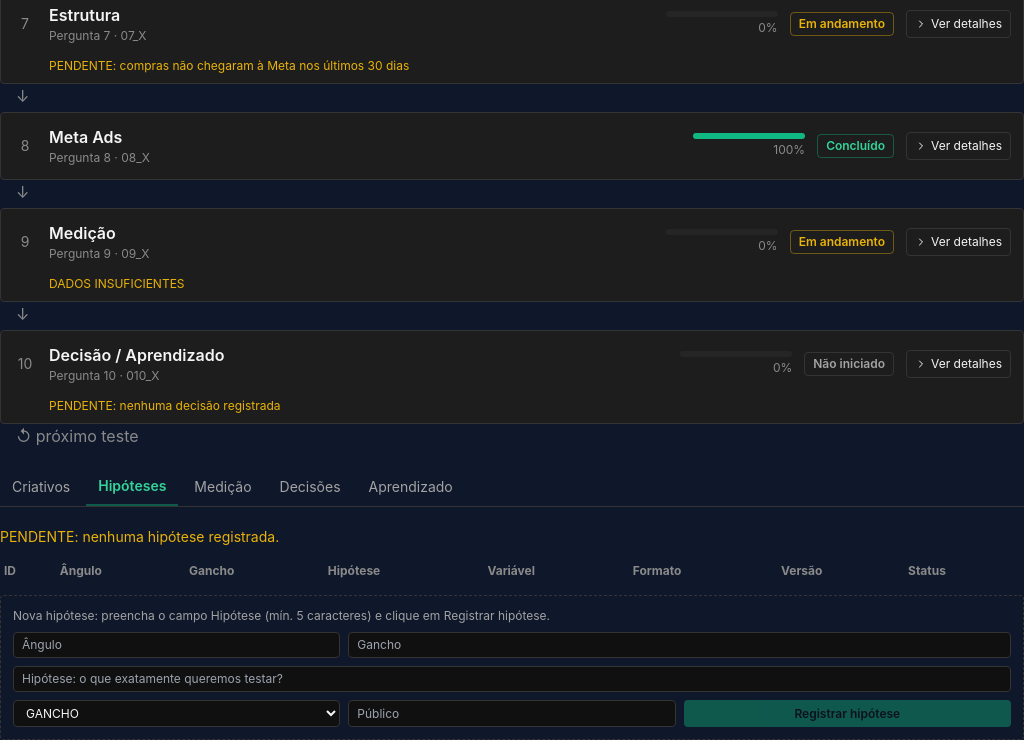
Test: Método NORQVA — tela › measurement never shows zero for missing data
This screenshot has width=1024, height=740.
(page scrolled)
Click the tab "Medição" at (223, 487), box [182, 468, 264, 506]
(page scrolled)
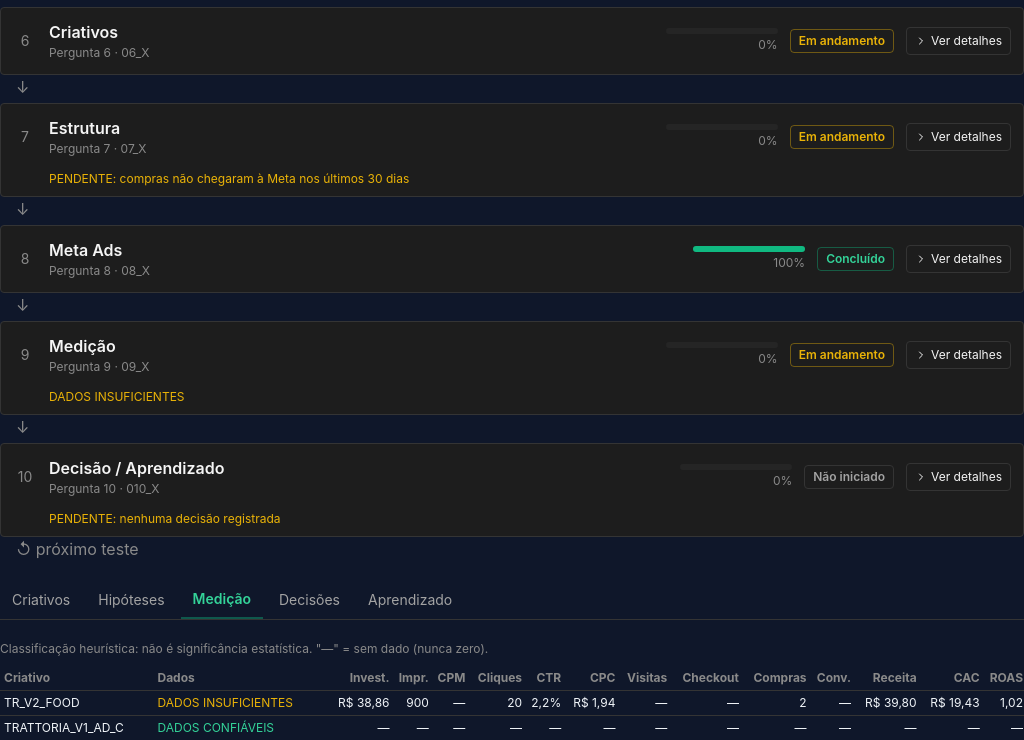
Expected: the element with test id "method-measurement" shows "DADOS INSUFICIENTES", [158, 695, 293, 710]
Expected: the element with test id "method-measurement" shows "DADOS CONFIÁVEIS", [158, 720, 274, 735]
Expected: the element with test id "method-measurement" shows "—", [453, 695, 465, 710]
